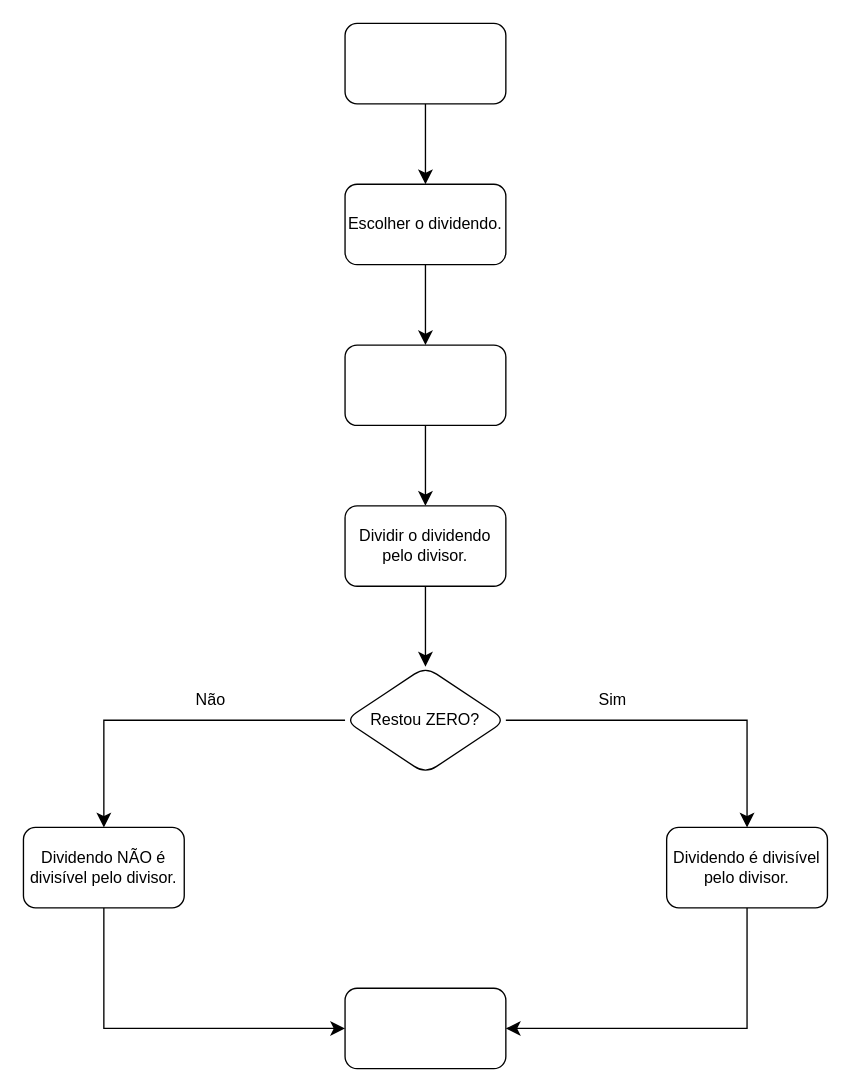
Image size: 851x1092. Some labels were removed from this diagram. The shapes that lost their labels are listed below. From the top down, each one's centre as x and y in pixels, then its label:
At point (425, 63): "Início".
At point (425, 384): "Escolher o divisor.".
At point (425, 1028): "FIM!".
